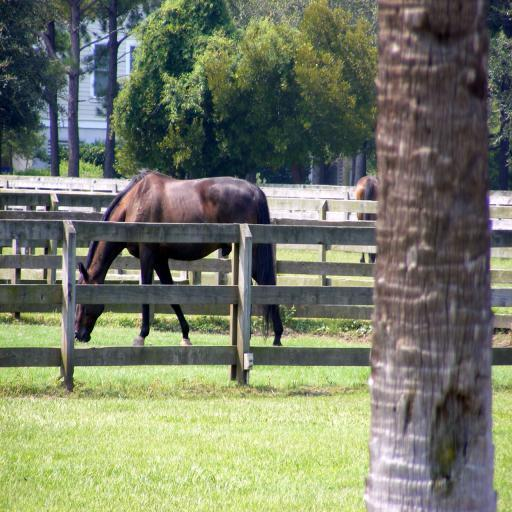horse: (75, 170, 284, 348), (356, 176, 378, 266)
